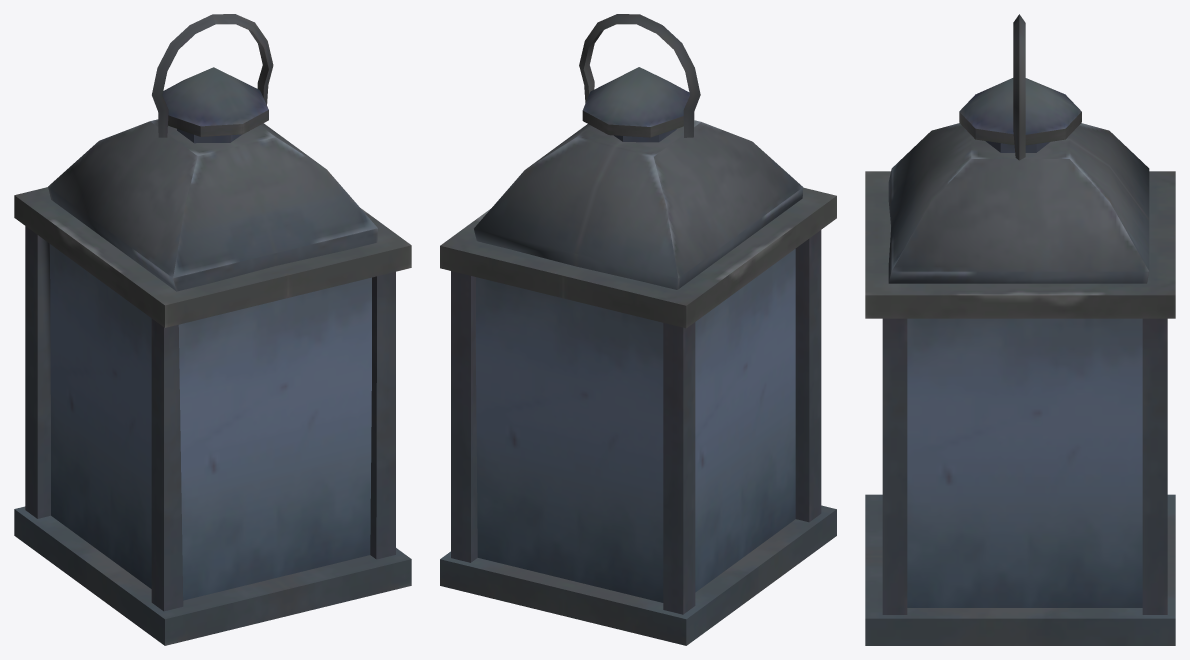
Rendered from Homeworld_Interior_Md_Lamp_Lamp_04_Vo.fbx.
3 views of the same model, side by side, from view 1: azimuth 30°, elevation 25°; view 2: azimuth 150°, elevation 25°; view 3: azimuth 270°, elevation 25° (orthographic). The views are drawn at different scales.
Visible parts, largest first — view 1: Area_MdProps_Lamp01_Vo; view 2: Area_MdProps_Lamp01_Vo; view 3: Area_MdProps_Lamp01_Vo.
Part boxes in pixels (<box>): Area_MdProps_Lamp01_Vo: <box>14,14,411,645</box>; Area_MdProps_Lamp01_Vo: <box>440,14,836,645</box>; Area_MdProps_Lamp01_Vo: <box>865,14,1175,645</box>.
Size of the model in its own units: 0.2427 by 0.5143 by 0.2566.
1 material, 1 textured.
